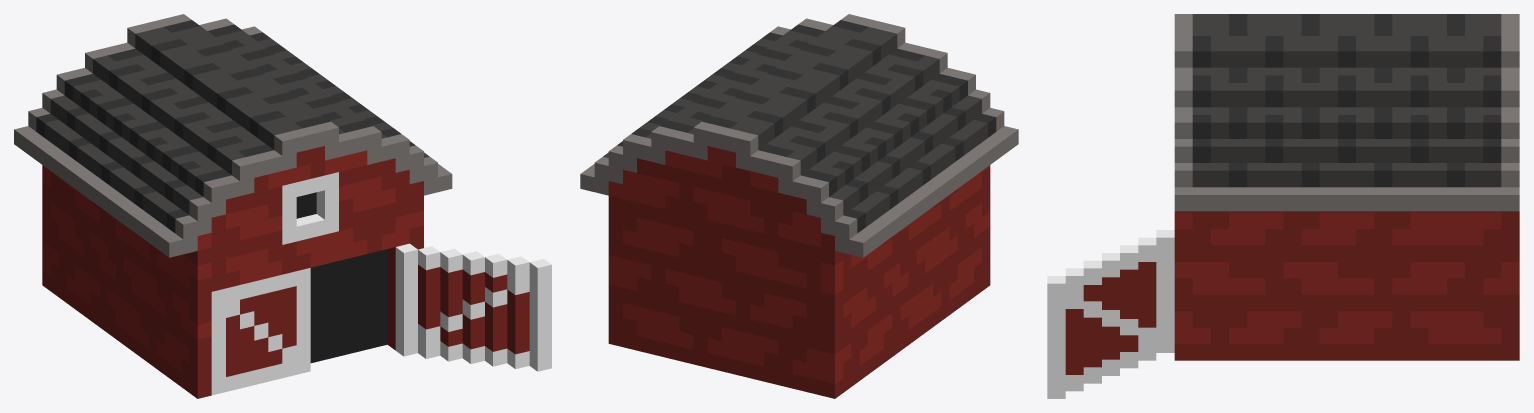
File: granjafinal_granero.obj
3 views of the same model, side by side, from view 1: azimuth 30°, elevation 25°; view 2: azimuth 150°, elevation 25°; view 3: azimuth 270°, elevation 25° (orthographic). The views are drawn at different scales.
Size of the model in its own units: 2.3 by 1.6 by 2.6.
1 material, 1 textured.
